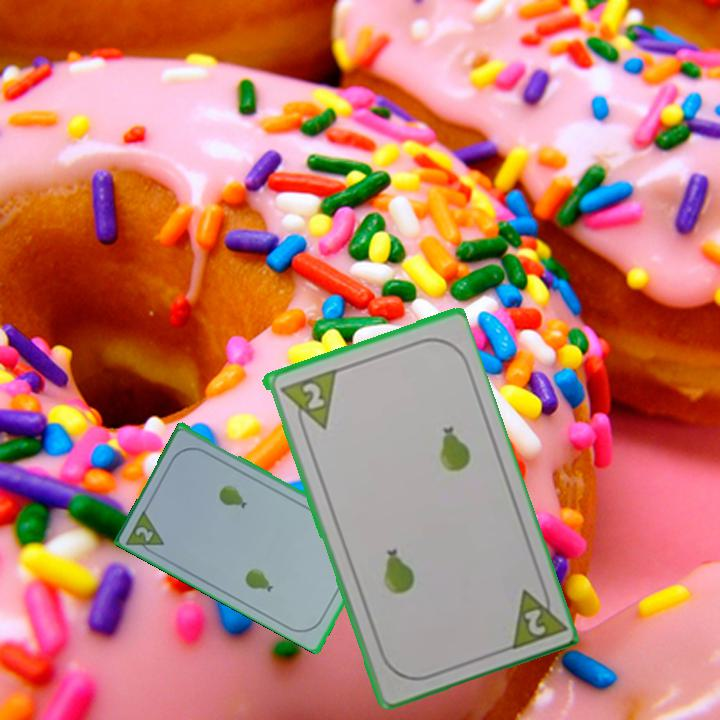2p: (503, 578, 567, 653), (276, 365, 338, 438), (132, 523, 157, 544)
